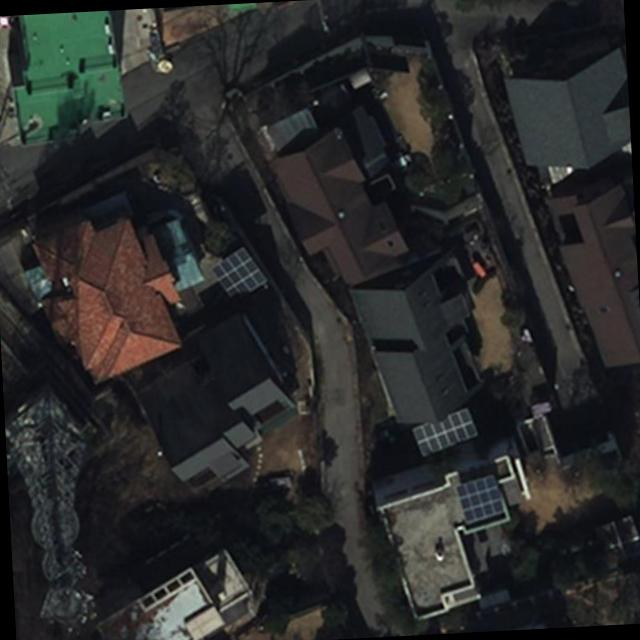solar: (406, 402, 484, 460), (208, 246, 272, 306), (451, 470, 510, 524)
